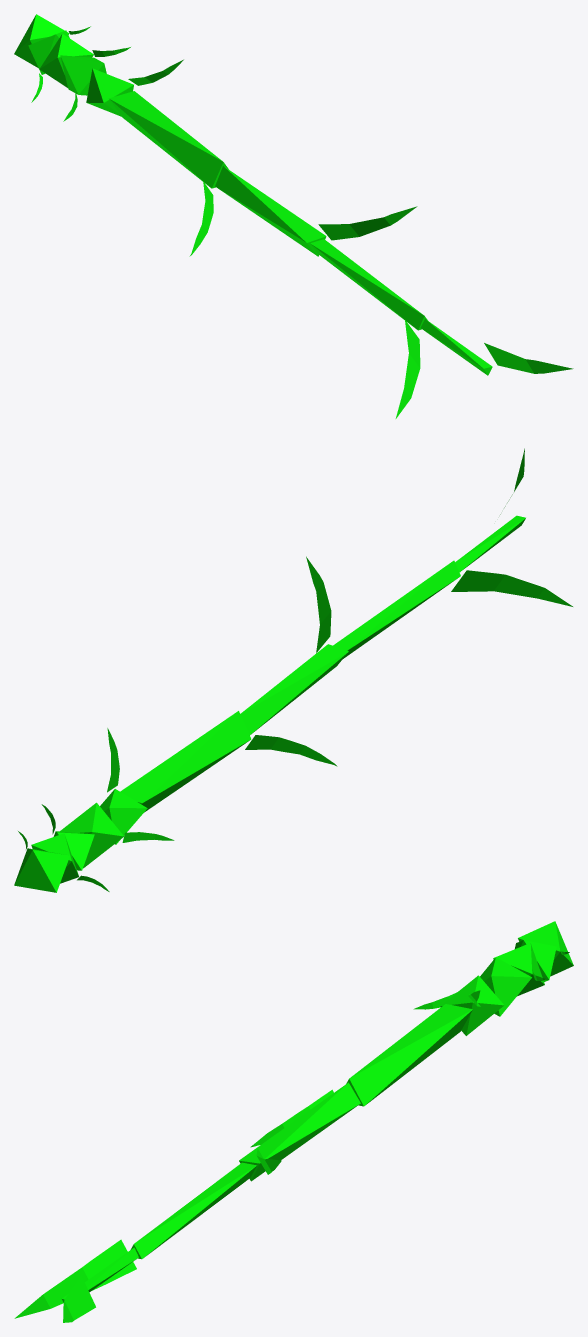
File: usm_24_Beer_2018-07-25_4.obj
3 renders of one model, top to bottom at view 1: azimuth 30°, elevation 25°; view 2: azimuth 150°, elevation 25°; view 3: azimuth 330°, elevation 25°, orthographic. The views are drawn at different scales.
Parts seen in each view (by area): view 1: vid_13, vid_15, vid_17, vid_11, vid_9, vid_16, vid_7, vid_20, vid_18, vid_3, vid_19, vid_5 (+1 smaller); view 2: vid_13, vid_15, vid_17, vid_18, vid_3, vid_9, vid_11, vid_14, vid_19, vid_16, vid_5, vid_7; view 3: vid_13, vid_15, vid_17, vid_18, vid_11, vid_9, vid_3, vid_7, vid_20, vid_19, vid_5.
Boxes of the visible parts, box(x1,y1,x2,y2) form: vid_13: box(109, 91, 228, 188); vid_15: box(215, 166, 326, 256); vid_17: box(310, 239, 427, 330); vid_11: box(86, 68, 133, 116); vid_9: box(60, 55, 106, 95); vid_16: box(318, 206, 417, 240); vid_7: box(39, 34, 93, 87); vid_20: box(484, 343, 573, 373); vid_18: box(395, 320, 420, 418); vid_3: box(14, 14, 69, 67); vid_19: box(420, 319, 492, 375); vid_5: box(28, 30, 69, 74); vid_13: box(120, 711, 251, 812); vid_15: box(240, 644, 348, 735); vid_17: box(333, 560, 460, 658); vid_18: box(451, 570, 572, 606); vid_3: box(14, 848, 69, 892); vid_9: box(60, 802, 123, 868); vid_11: box(100, 789, 147, 844); vid_14: box(245, 735, 337, 766); vid_19: box(455, 515, 525, 572); vid_16: box(306, 556, 331, 653); vid_5: box(31, 833, 78, 883); vid_7: box(53, 831, 94, 870); vid_13: box(346, 1004, 472, 1106); vid_15: box(239, 1082, 360, 1181); vid_17: box(130, 1162, 256, 1259); vid_18: box(14, 1239, 136, 1318); vid_11: box(440, 975, 504, 1035); vid_9: box(480, 957, 531, 1016); vid_3: box(518, 921, 573, 976); vid_7: box(493, 943, 544, 996); vid_20: box(63, 1276, 95, 1322); vid_19: box(62, 1247, 138, 1302); vid_5: box(515, 940, 556, 981).
Size of the model in its own units: 14.79 by 10.12 by 93.73.
